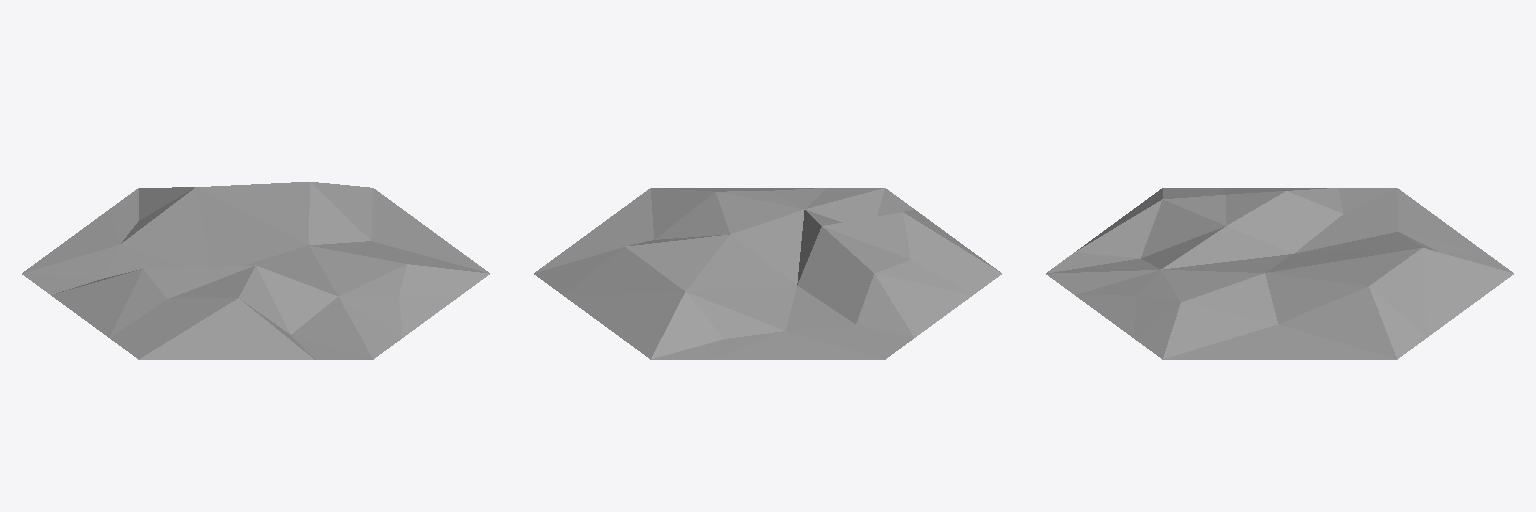
The model's file is Hexagon_3.obj.
The picture shows the model from 3 angles: view 1: azimuth 30°, elevation 25°; view 2: azimuth 150°, elevation 25°; view 3: azimuth 270°, elevation 25°; orthographic projection.
Parts seen in each view (by area): view 1: Circle.001; view 2: Circle.001; view 3: Circle.001.
Boxes of the visible parts, x1,y1,x2,y2 form: Circle.001: [22, 182, 489, 359]; Circle.001: [534, 188, 1001, 359]; Circle.001: [1046, 188, 1513, 359].
Bounding box in the file's own units: 1.73 × 0.1834 × 2.